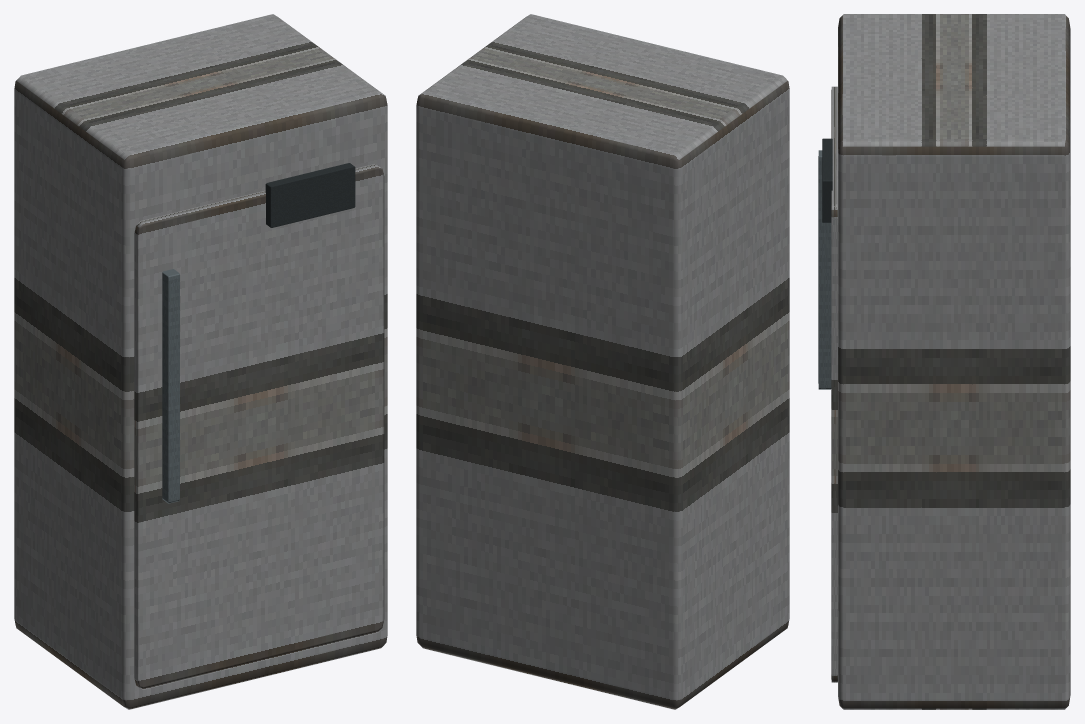
The model's file is fridge.glb.
3 views of the same model, side by side, from view 1: azimuth 30°, elevation 25°; view 2: azimuth 150°, elevation 25°; view 3: azimuth 270°, elevation 25° (orthographic). The views are drawn at different scales.
Parts seen in each view (by area): view 1: case, front, display, pull; view 2: case; view 3: case, front, pull, display.
Part boxes in pixels (box(x1,y1,x2,y2)): case: box(14, 14, 387, 709); front: box(134, 164, 384, 689); display: box(265, 163, 355, 227); pull: box(162, 269, 179, 503); case: box(416, 14, 789, 709); case: box(838, 14, 1070, 709); front: box(831, 86, 837, 682); pull: box(818, 150, 831, 389); display: box(822, 138, 832, 222).
Size of the model in its own units: 0.9 by 1.8 by 0.7215.
3 materials, 3 textured.
